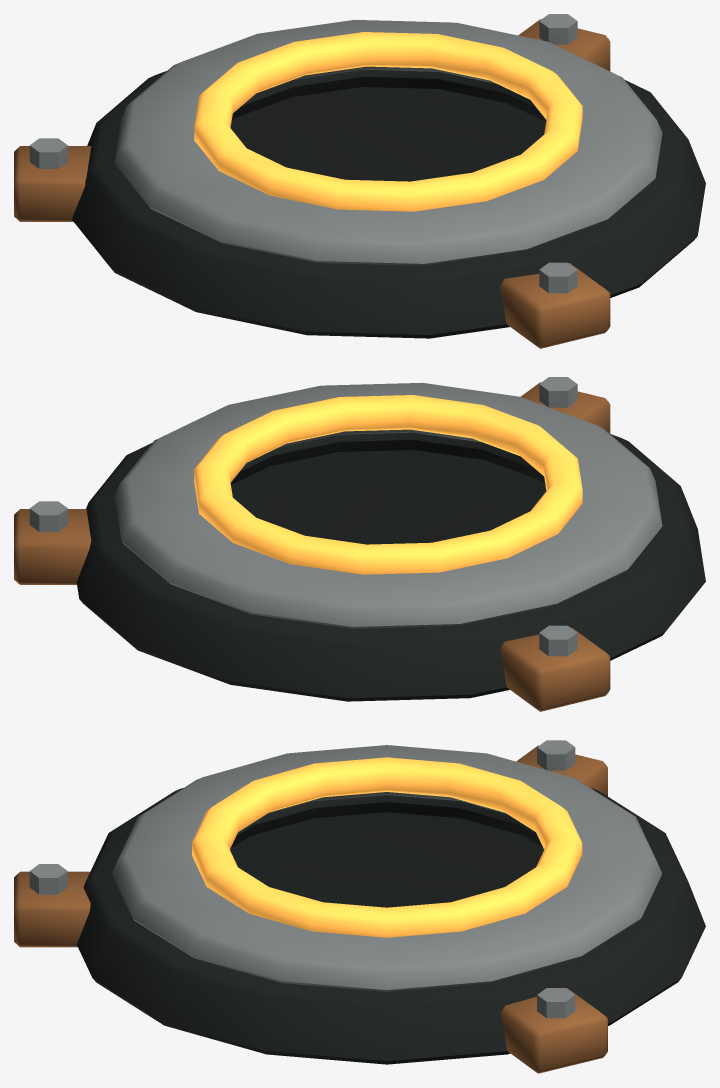
The model's file is cons_drop_cradle.glb.
3 renders of one model, top to bottom at view 1: azimuth 30°, elevation 25°; view 2: azimuth 150°, elevation 25°; view 3: azimuth 270°, elevation 25°, orthographic.
Parts seen in each view (by area): view 1: cons_drop_cradle_mesh; view 2: cons_drop_cradle_mesh; view 3: cons_drop_cradle_mesh.
Part boxes in pixels (bbox=[...]): cons_drop_cradle_mesh: bbox=[14, 14, 705, 348]; cons_drop_cradle_mesh: bbox=[14, 377, 705, 711]; cons_drop_cradle_mesh: bbox=[14, 740, 705, 1073].
Size of the model in its own units: 0.7878 by 0.12 by 0.7976.
